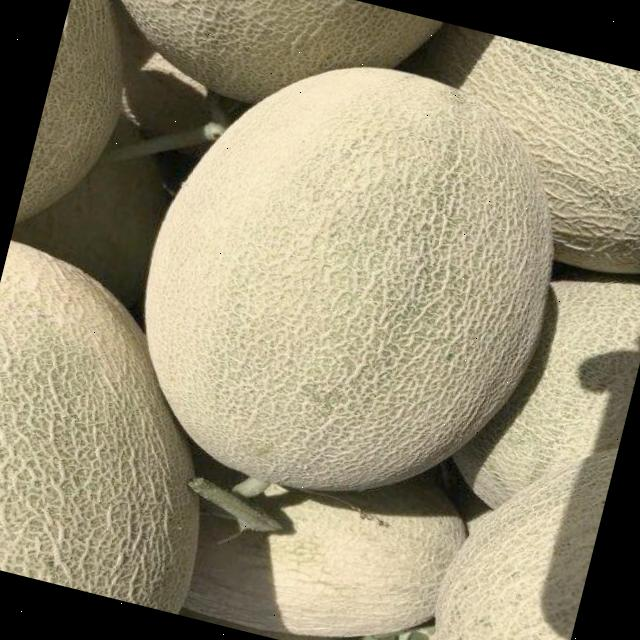Hami Melon: (105, 21, 594, 534), (0, 240, 262, 616), (395, 21, 640, 285), (420, 411, 619, 640)
